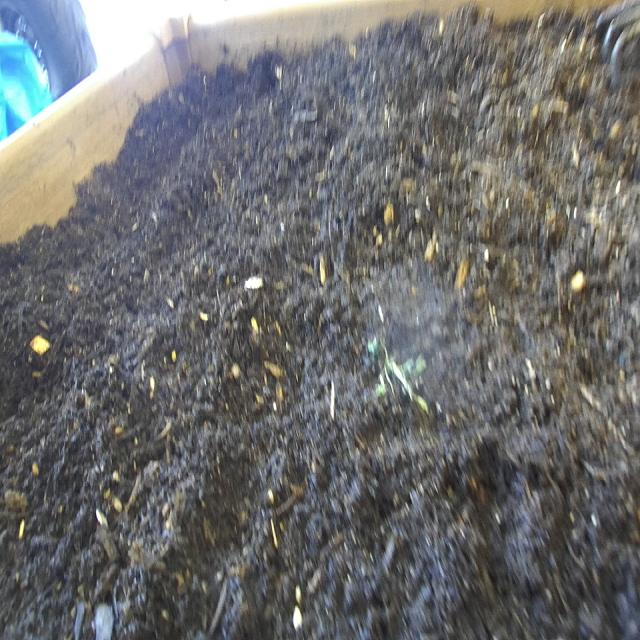Unhealthy: (354, 299, 464, 465)
